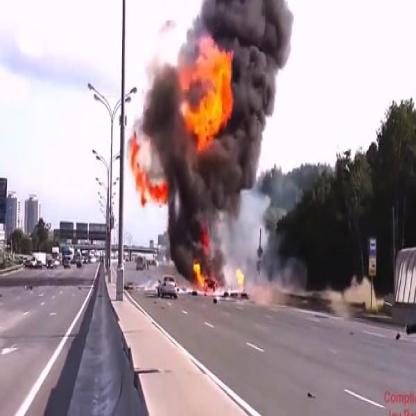fire: (177, 29, 238, 158), (127, 129, 173, 209), (192, 258, 214, 297), (235, 265, 248, 295)
